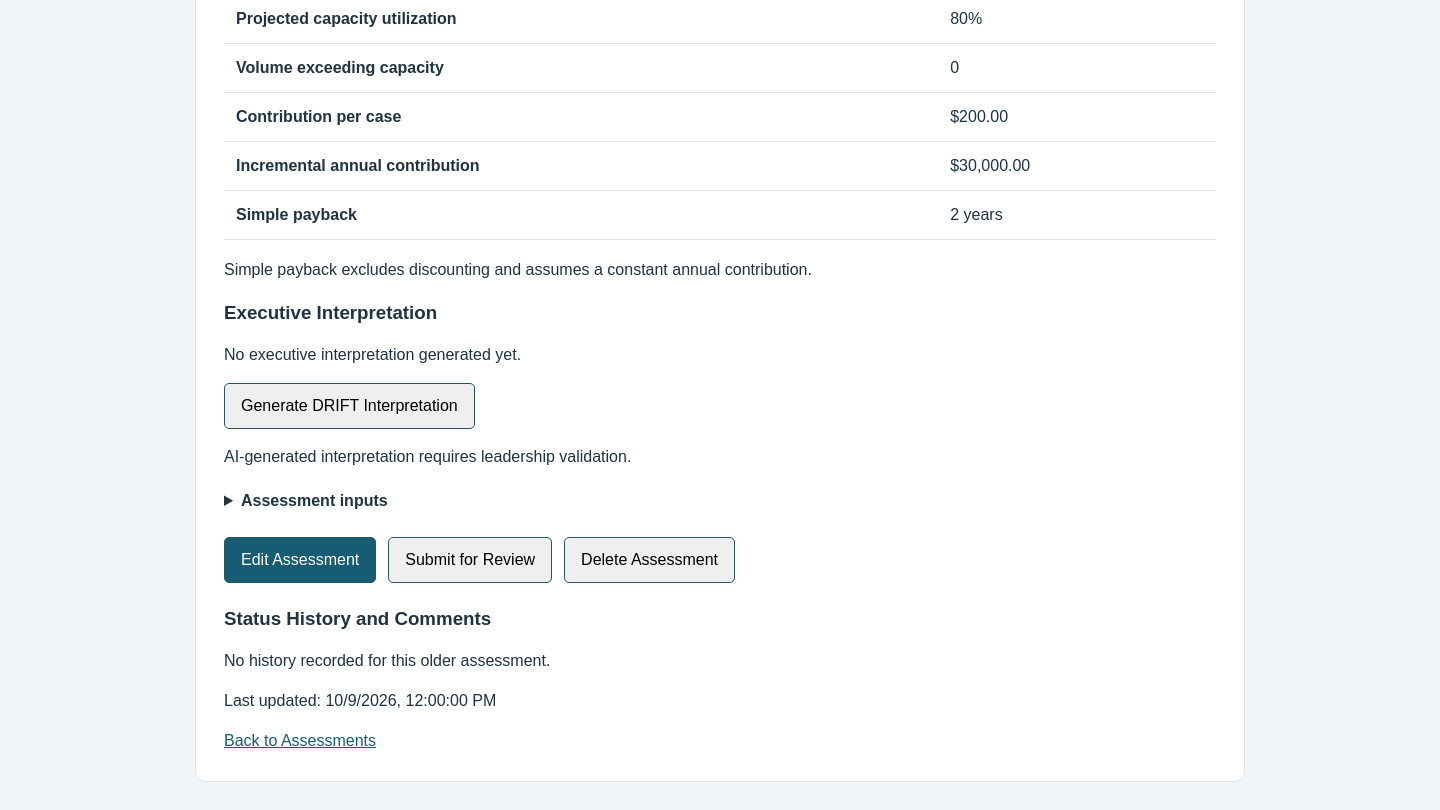
Scenario: StratSight assessment interface › generates and displays a DRIFT interpretation
The image size is (1440, 810).
(page scrolled)
Click the button "Generate DRIFT Interpretation". click: (349, 406)
box: [224, 383, 475, 429]
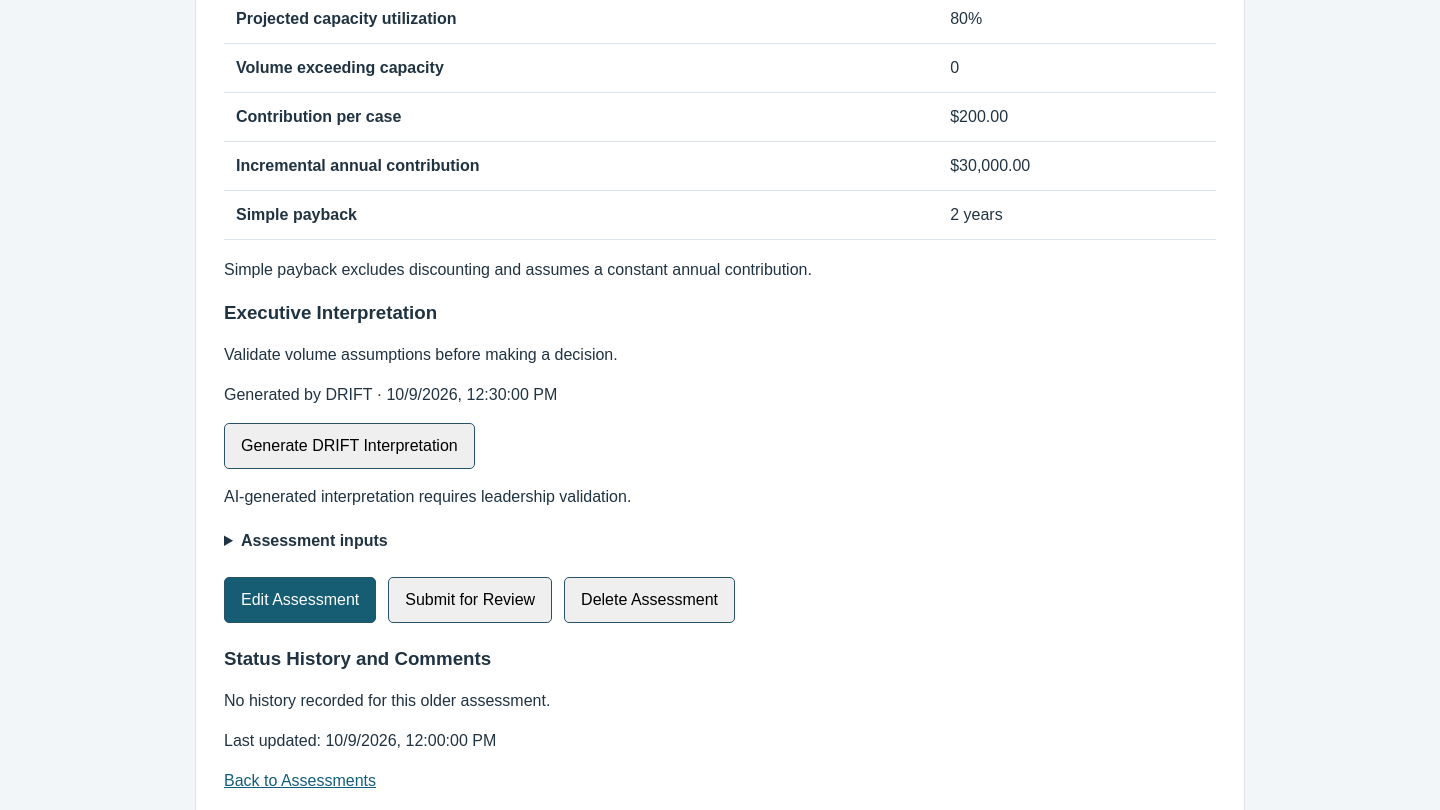
Result: the text "Validate volume assumptions before making a decision." is shown at [224, 346, 618, 363]
Result: the text "Generated by DRIFT · 10/9/2026, 12:30:00 PM" is shown at [224, 386, 557, 403]
